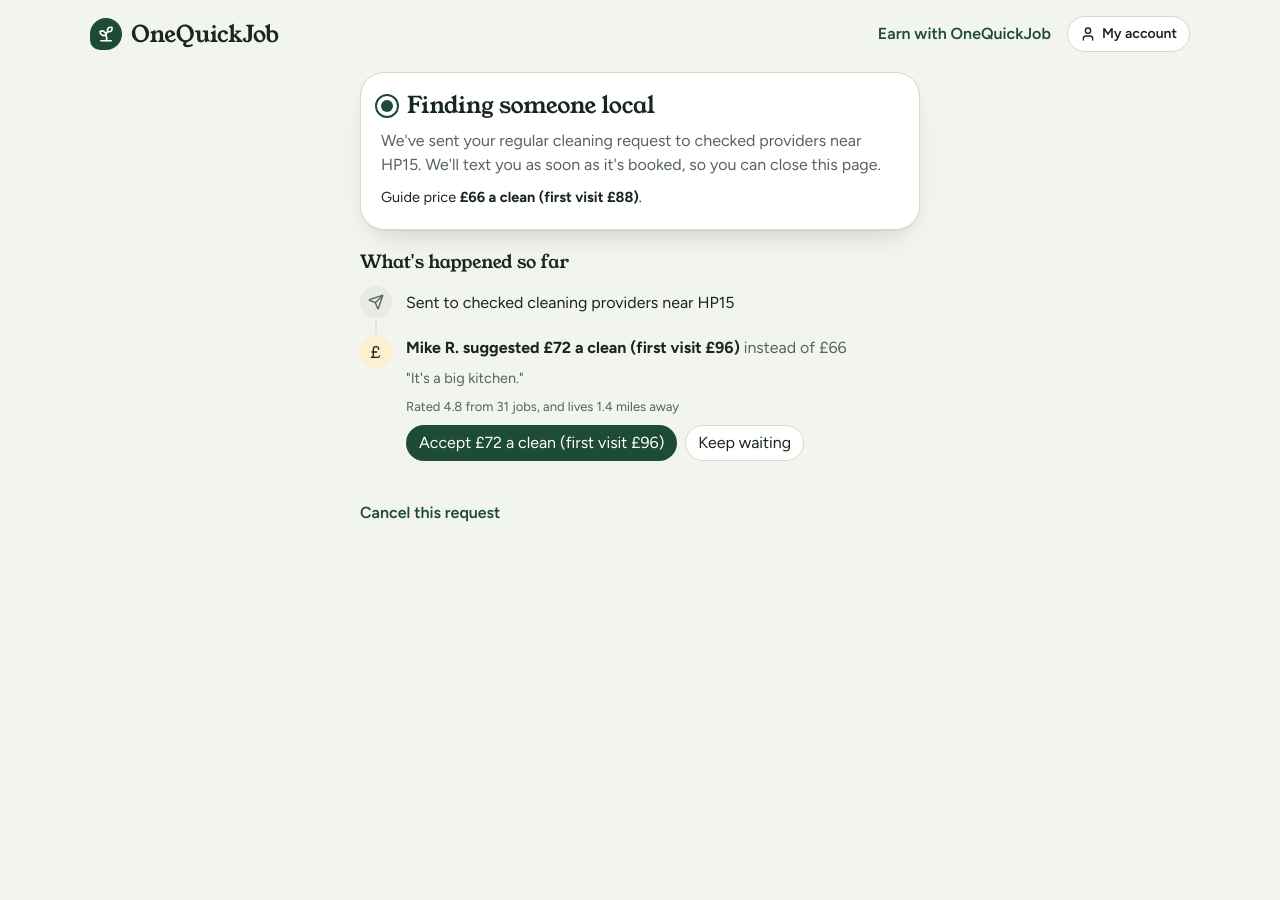
Finding someone local › explains when the provider can no longer take the job, and keeps waiting (ruling A9)
Click the button "Accept £72 a clean (first visit £96)" at (542, 443), box [406, 425, 677, 461]
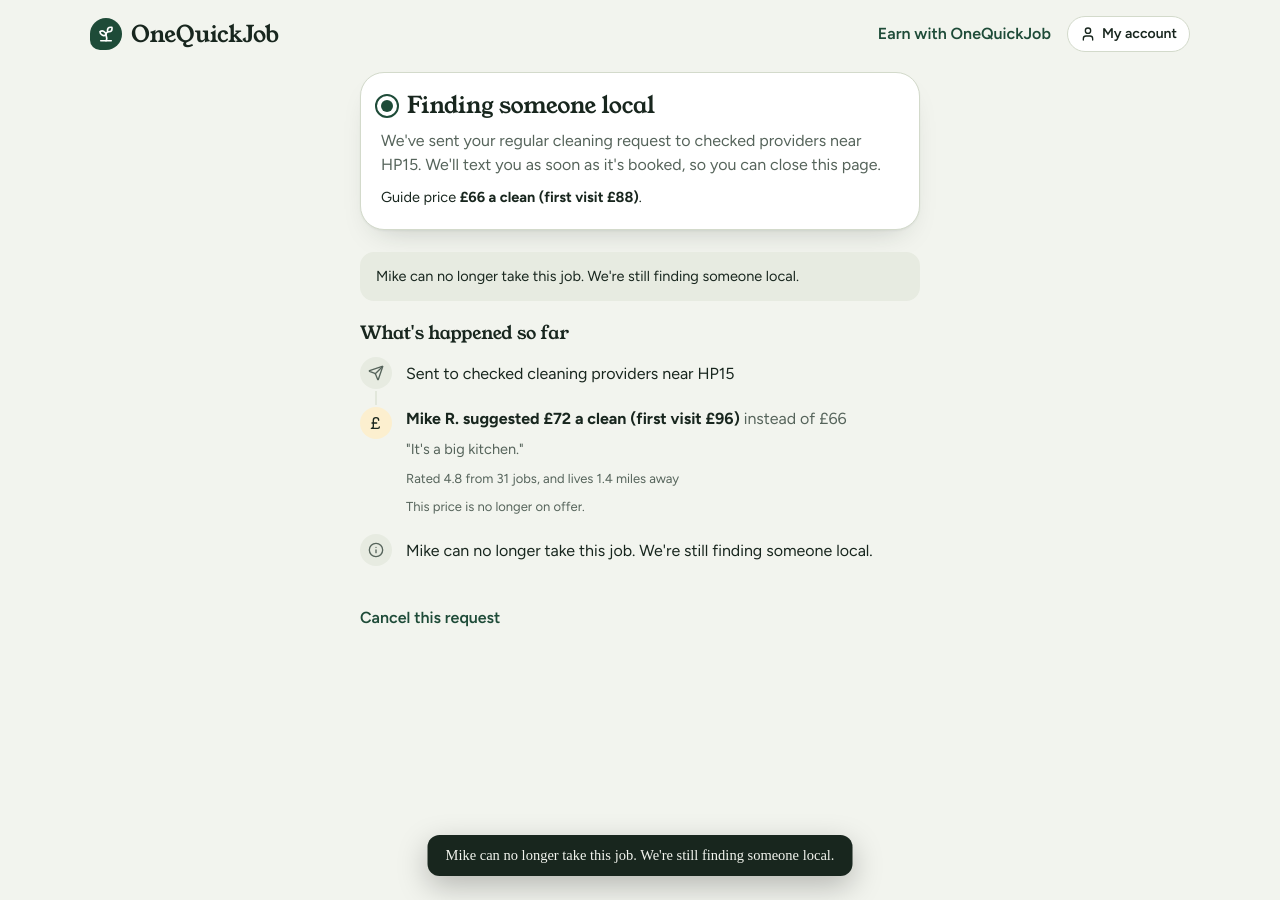
Now the message reads "Mike can no longer take this job. We're still finding someone local.", box [376, 266, 799, 284]
Now the button "Accept £72" is gone
Now the text "This price is no longer on offer." is shown, box [406, 499, 585, 514]
